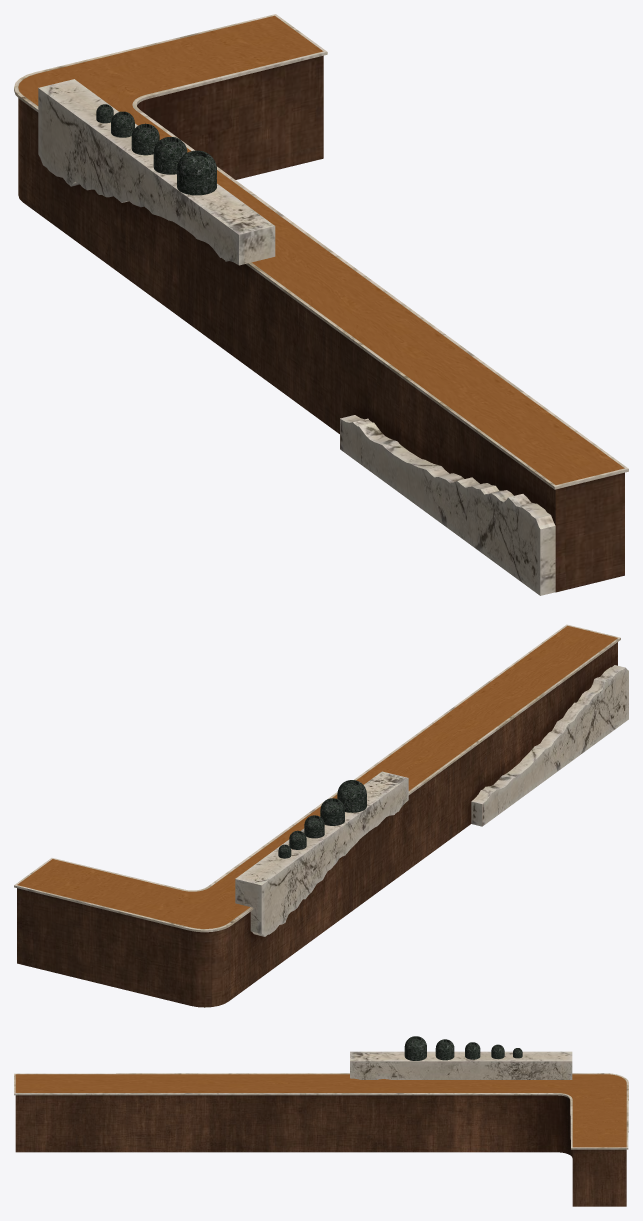
The model's file is recdesk.glb.
3 views of the same model, one above another, from view 1: azimuth 30°, elevation 25°; view 2: azimuth 150°, elevation 25°; view 3: azimuth 270°, elevation 25° (orthographic). The views are drawn at different scales.
Parts seen in each view (by area): view 1: model_25.001_Plate.001, Cylinder.004, Cylinder.003; view 2: model_25.001_Plate.001, Cylinder.004, Cylinder.003; view 3: model_25.001_Plate.001, Cylinder.004, Cylinder.003.
Part boxes in pixels (left/top/right/bottom): model_25.001_Plate.001: left=14, top=14, right=628, bottom=595; Cylinder.004: left=177, top=150, right=216, bottom=195; Cylinder.003: left=153, top=137, right=187, bottom=174; model_25.001_Plate.001: left=14, top=624, right=628, bottom=1007; Cylinder.004: left=337, top=780, right=366, bottom=812; Cylinder.003: left=320, top=798, right=344, bottom=825; model_25.001_Plate.001: left=14, top=1051, right=628, bottom=1206; Cylinder.004: left=404, top=1036, right=426, bottom=1060; Cylinder.003: left=435, top=1039, right=454, bottom=1060.
Bounding box in the file's own units: 1.93 × 1.1 × 6.43.
Materials: 4 (4 with a texture image).
